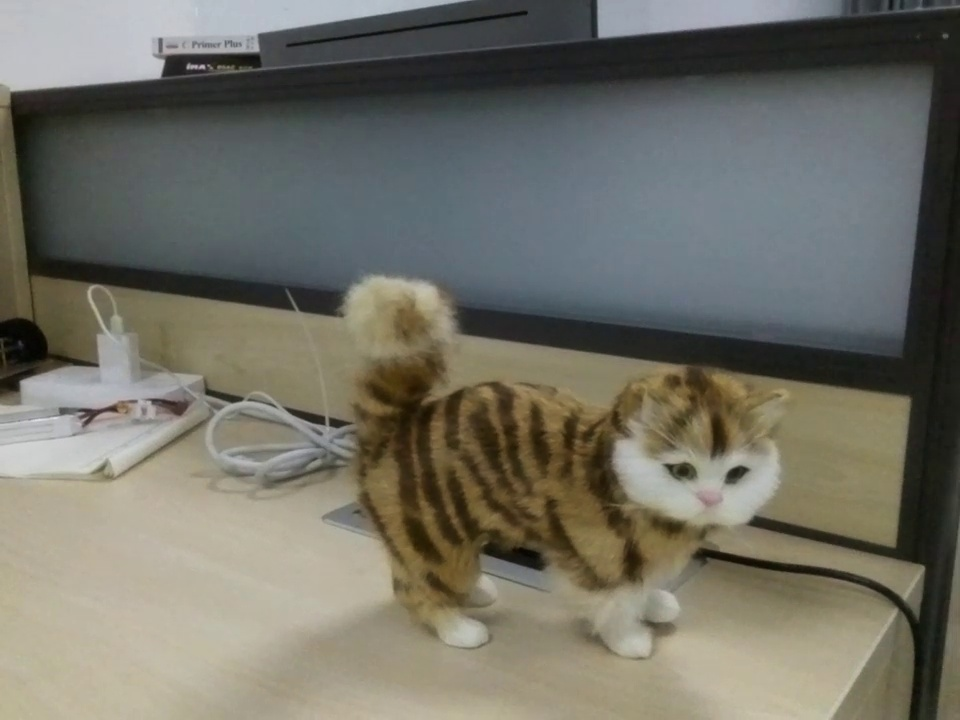cat: (333, 264, 812, 691)
